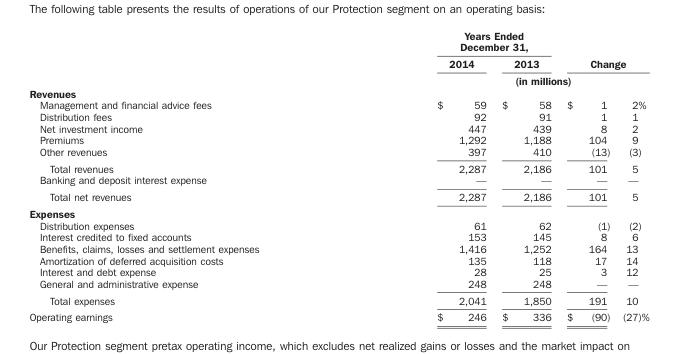table: (28, 28, 648, 322)
table column: (28, 28, 347, 322), (347, 28, 493, 322), (493, 28, 558, 322), (558, 28, 615, 322), (615, 28, 648, 322)
table column header: (28, 28, 648, 86)
table projected row header: (28, 204, 648, 219), (28, 86, 648, 98)
table row: (28, 28, 648, 54), (28, 54, 648, 71), (28, 291, 648, 308), (28, 188, 648, 204), (28, 71, 648, 86), (28, 173, 648, 188), (28, 204, 648, 219), (28, 145, 648, 159), (28, 159, 648, 173), (28, 277, 648, 291), (28, 308, 648, 322), (28, 86, 648, 98), (28, 98, 648, 110), (28, 110, 648, 122), (28, 133, 648, 145), (28, 230, 648, 242), (28, 253, 648, 265), (28, 265, 648, 277), (28, 122, 648, 133), (28, 219, 648, 230), (28, 242, 648, 253)
table spanning cell: (347, 28, 558, 54), (347, 71, 615, 86), (558, 28, 648, 71)
